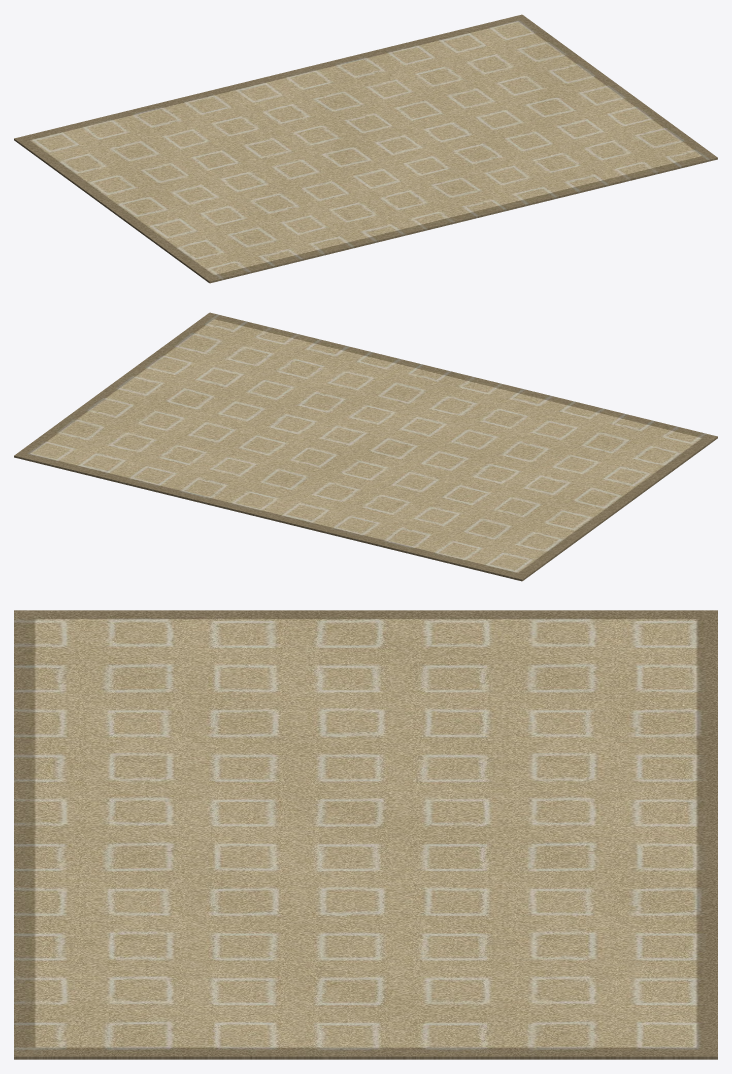
Rendered from alfombra_geometrica_200x300.glb.
3 views of the same model, one above another, from view 1: azimuth 30°, elevation 25°; view 2: azimuth 150°, elevation 25°; view 3: azimuth 270°, elevation 25° (orthographic). The views are drawn at different scales.
Parts seen in each view (by area): view 1: alfombra_geometrica_200x300; view 2: alfombra_geometrica_200x300; view 3: alfombra_geometrica_200x300.
Part boxes in pixels (<box>): alfombra_geometrica_200x300: <box>14,14,717,283</box>; alfombra_geometrica_200x300: <box>14,312,717,581</box>; alfombra_geometrica_200x300: <box>14,610,717,1059</box>.
Size of the model in its own units: 3 by 0.01 by 2.
1 material, 1 textured.
